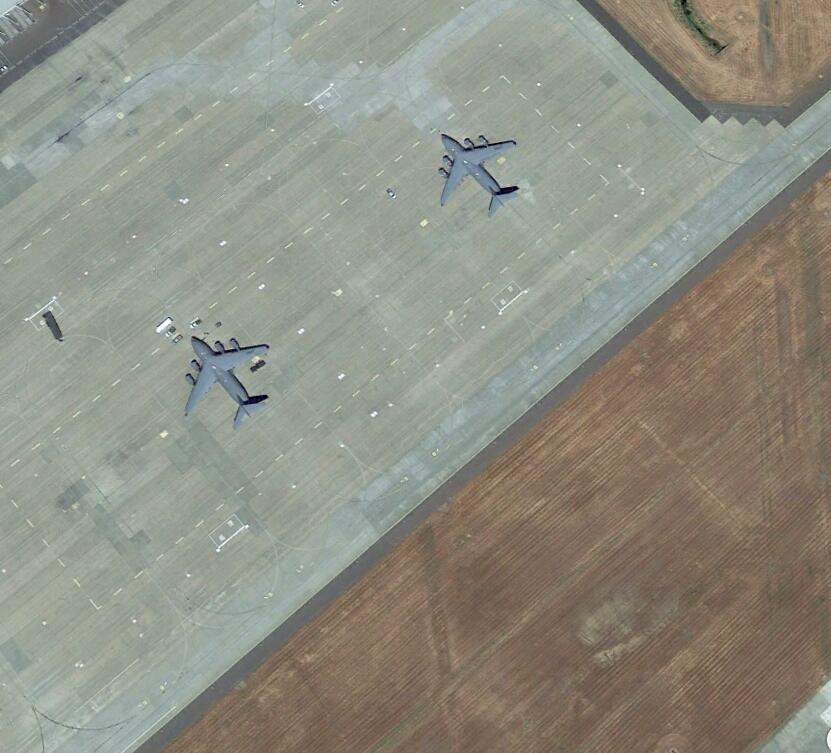A3: (185, 335, 271, 427), (438, 131, 523, 219)
